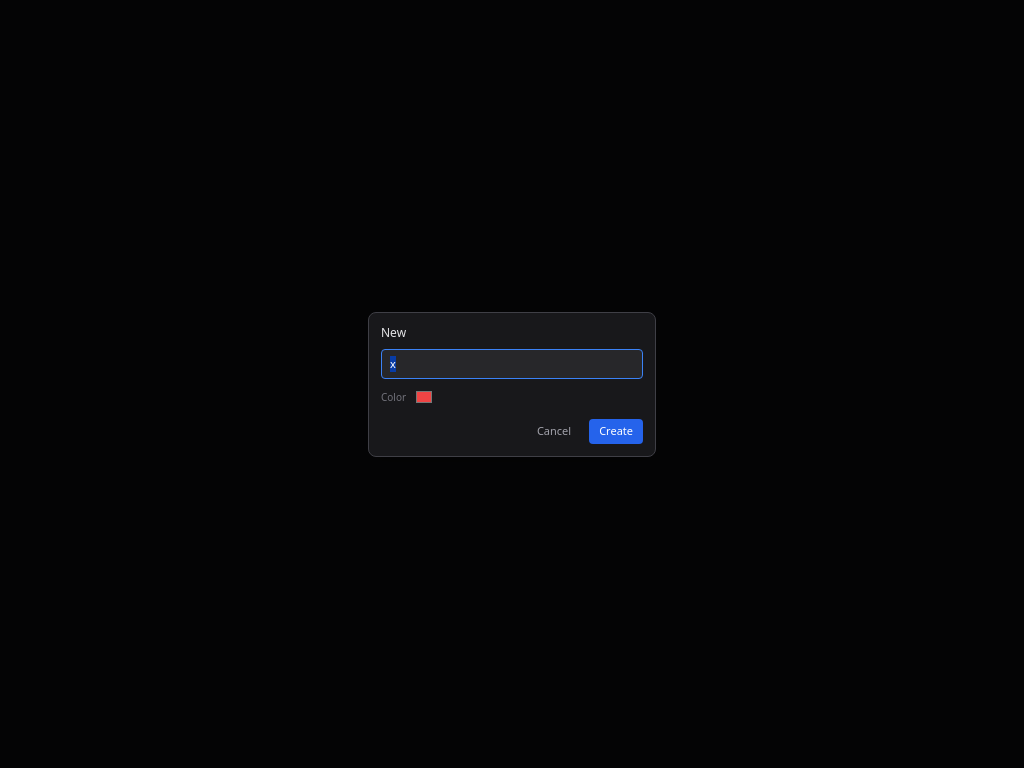
Test: NameEntryDialog › disables Create when the name is blank
This screenshot has width=1024, height=768.
Clear the field named "Name". click: (512, 364)
box: [381,348,643,379]
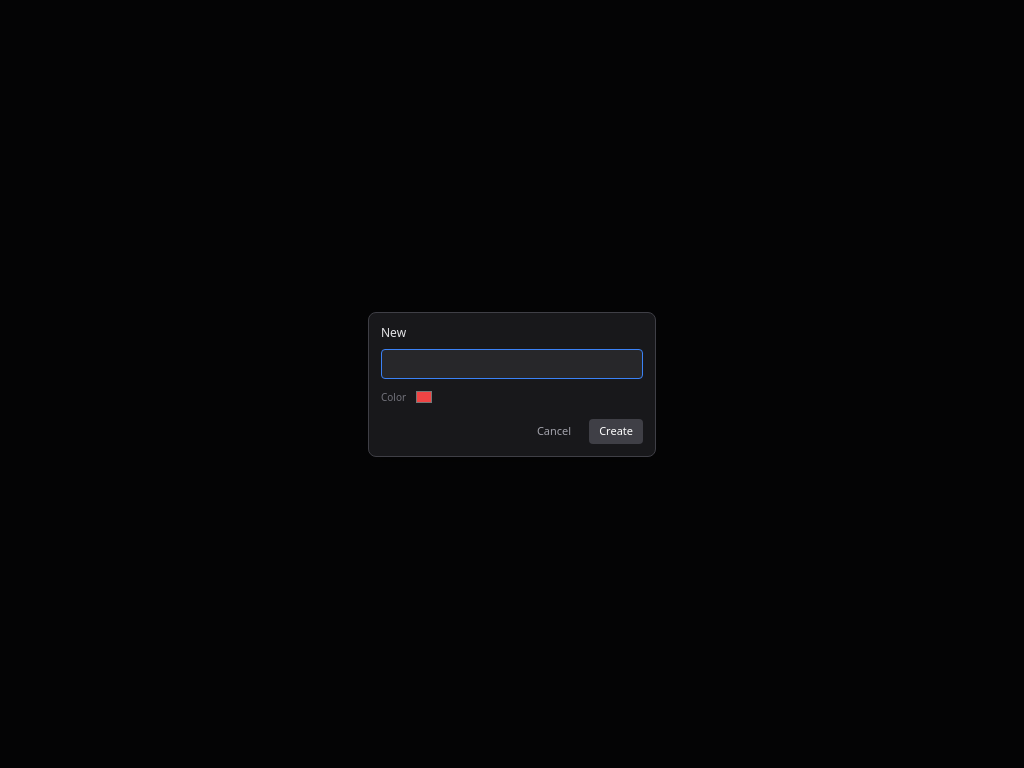
Result: the button "Create" is disabled at [589,419,643,444]
